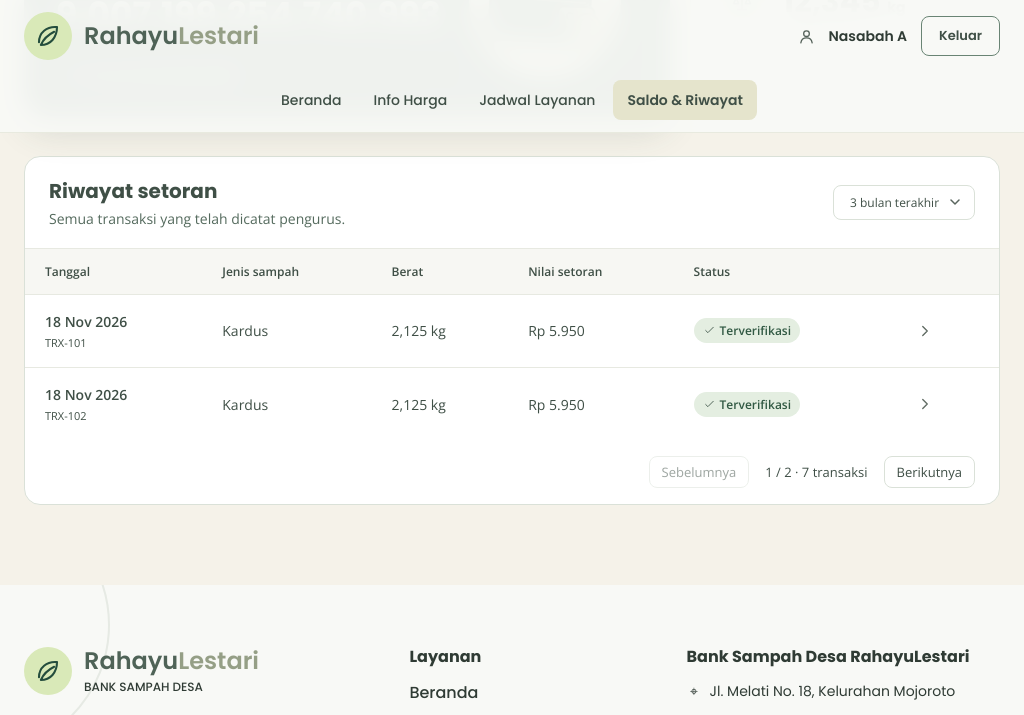
Test: error rincian 403 dapat dicoba kembali
This screenshot has width=1024, height=715.
(page scrolled)
What coordinates should you click on to do the following:
click the button named "Rincian TRX-101"
I would click on:
 (925, 331)
Its box is [906,312,944,350].
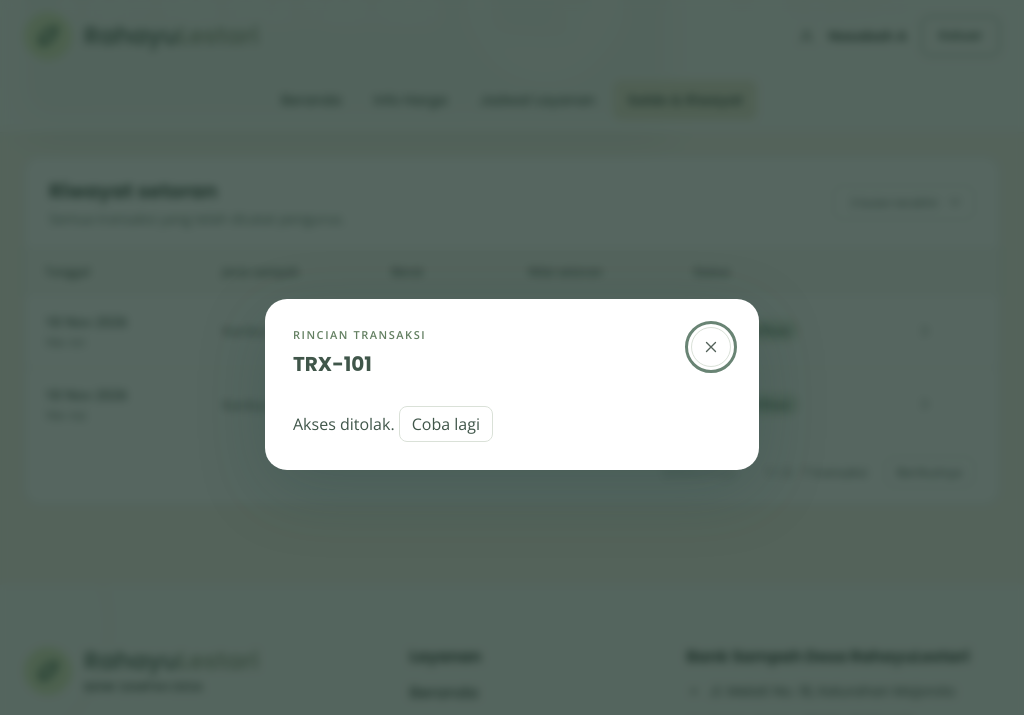
Check: the message shows "Akses ditolak", box [293,412,395,434]
What coordinates should you click on to do the following:
click the button "Coba lagi"
I would click on:
 (446, 424)
Its box is [399,406,493,442].
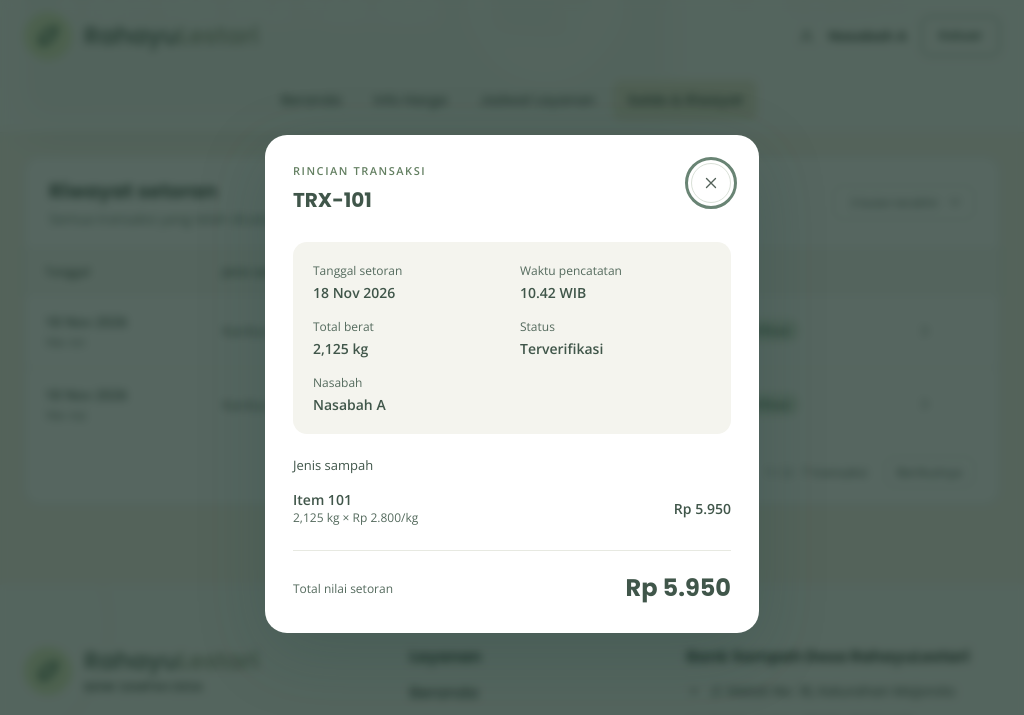
Check: the text "Item 101" is shown, box [293,490,352,509]
